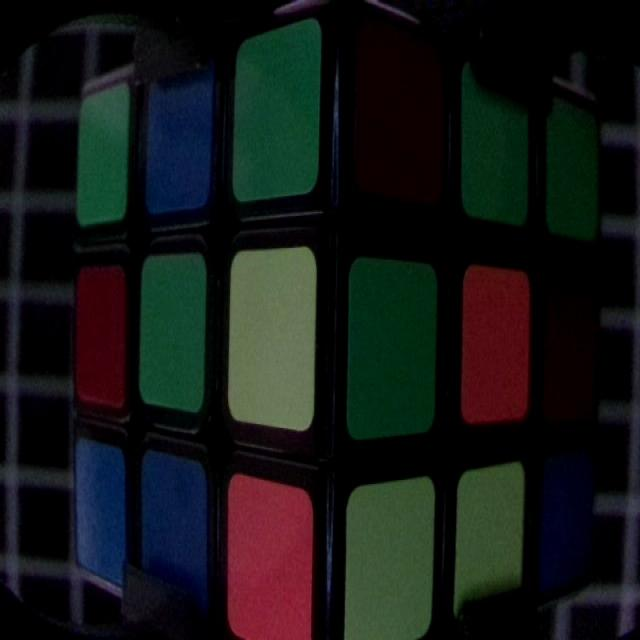b: (148, 50, 219, 213), (144, 459, 204, 609), (77, 442, 128, 572), (544, 462, 594, 580)
g: (351, 255, 435, 433), (236, 22, 321, 196), (462, 59, 532, 222), (140, 257, 203, 402), (76, 85, 130, 224), (549, 92, 595, 235)
o: (228, 469, 310, 640), (462, 270, 530, 424)
r: (351, 27, 446, 193), (74, 272, 129, 409), (550, 282, 594, 414)
y: (232, 248, 318, 418), (348, 479, 434, 635), (456, 464, 527, 616)
